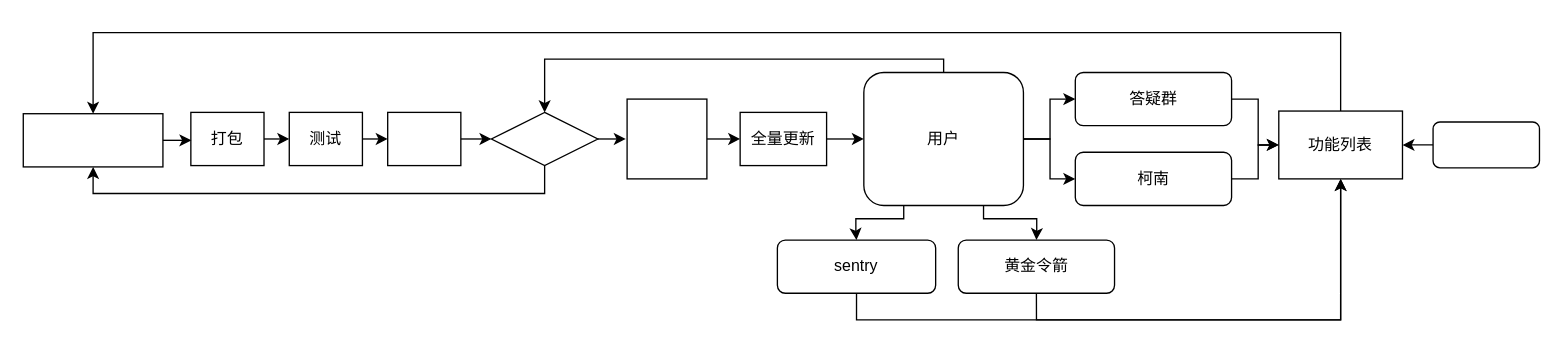
The diagram is 1563 pixels wide and 354 high, and some of its shapes have lost their labels. Here are the shapes that lost their labels. From the top down, the centre of each, then its label:
At point 92,139: "月度迭代".
At point 423,138: "发布".
At point 544,138: "灰度通过".
At point 666,138: "官网 公告".
At point 1485,144: "业务需求".
